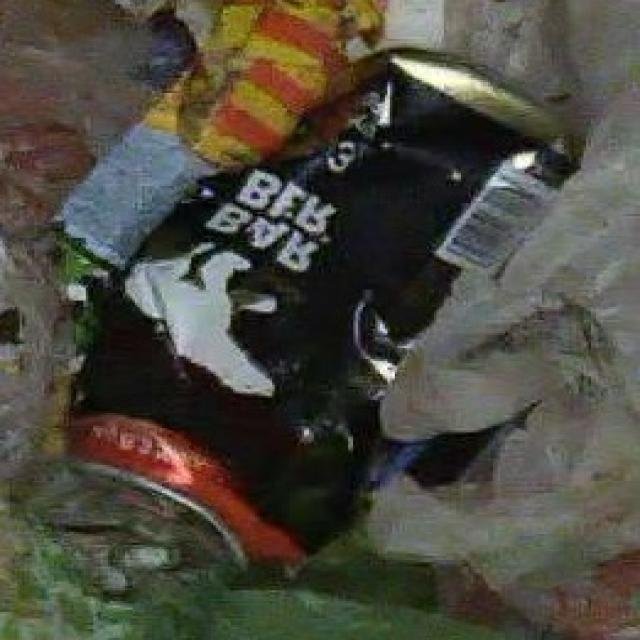can: (23, 45, 572, 591)
